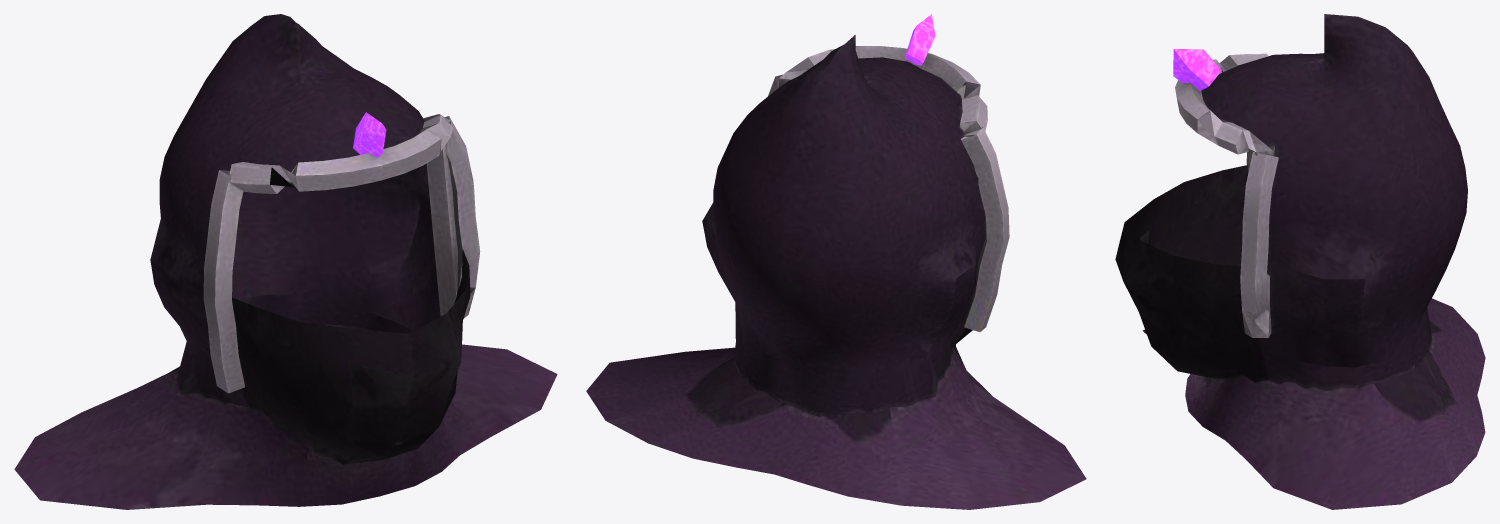
The model's file is Capuz_do_Assassino_nivel100.glb.
The picture shows the model from 3 angles, left to right: view 1: azimuth 30°, elevation 25°; view 2: azimuth 150°, elevation 25°; view 3: azimuth 270°, elevation 25°; orthographic projection. The views are drawn at different scales.
Parts seen in each view (by area): view 1: capuz_do_assassino_nivel100; view 2: capuz_do_assassino_nivel100; view 3: capuz_do_assassino_nivel100.
Boxes of the visible parts, x1,y1,x2,y2 form: capuz_do_assassino_nivel100: (14,14,557,509); capuz_do_assassino_nivel100: (586,14,1086,509); capuz_do_assassino_nivel100: (1115,14,1485,509).
Bounding box in the file's own units: 0.4628 × 0.356 × 0.3148.
1 material, 1 textured.
